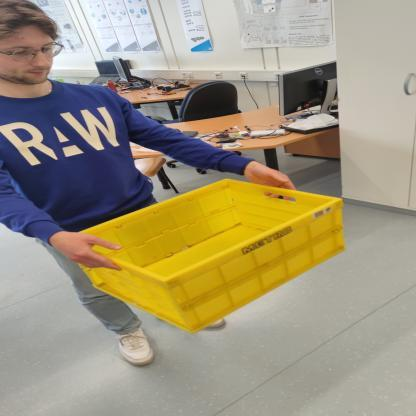-: (46, 177, 362, 335)
